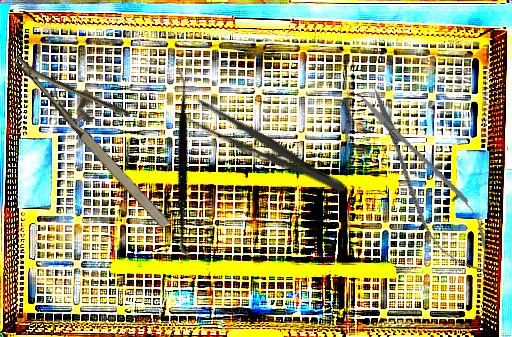Dressing Forceps: (172, 90, 353, 203)
Micro Scissor: (345, 78, 507, 287)
Needle Holder: (11, 24, 200, 234)
Spatula Surgical: (96, 65, 273, 262)
